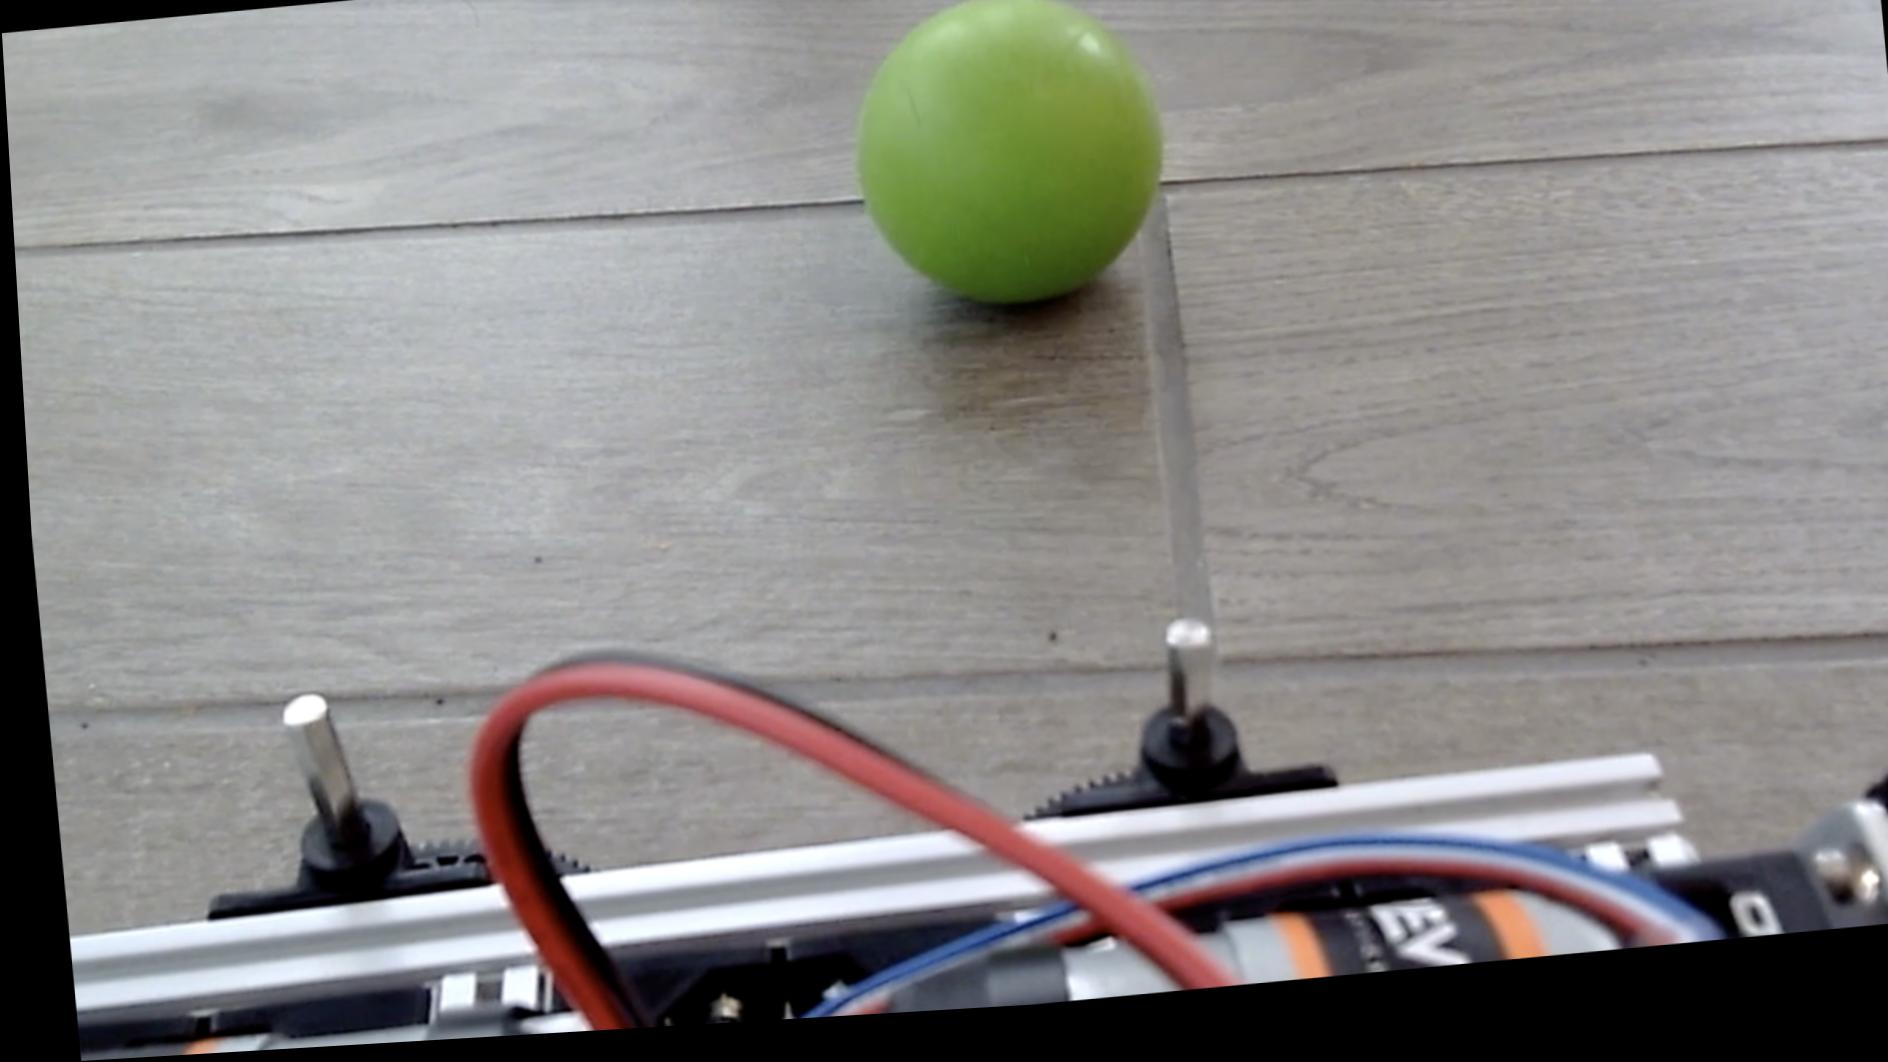greenball: (836, 0, 1174, 332)
